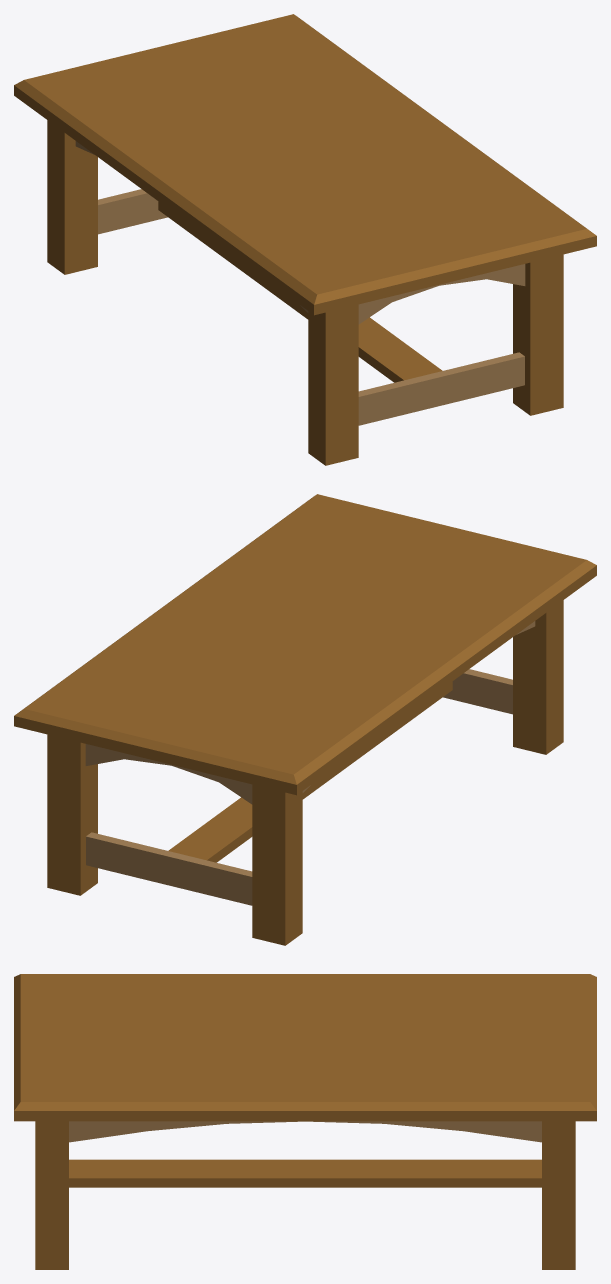
The model's file is Table.fbx.
3 renders of one model, top to bottom at view 1: azimuth 30°, elevation 25°; view 2: azimuth 150°, elevation 25°; view 3: azimuth 270°, elevation 25°, orthographic. The views are drawn at different scales.
Parts seen in each view (by area): view 1: table; view 2: table; view 3: table.
Boxes of the visible parts, left/top/right/bottom form: table: left=14, top=14, right=596, bottom=465; table: left=14, top=494, right=596, bottom=945; table: left=14, top=974, right=596, bottom=1269.
Size of the model in its own units: 164 by 100 by 301.
